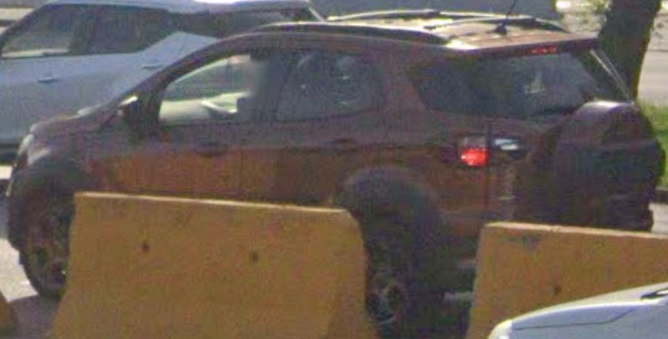car: (7, 12, 659, 209)
